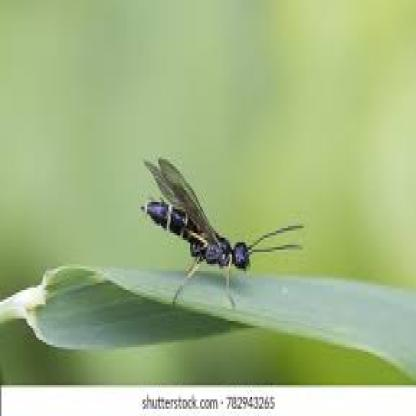sawfly: (139, 146, 305, 325)
